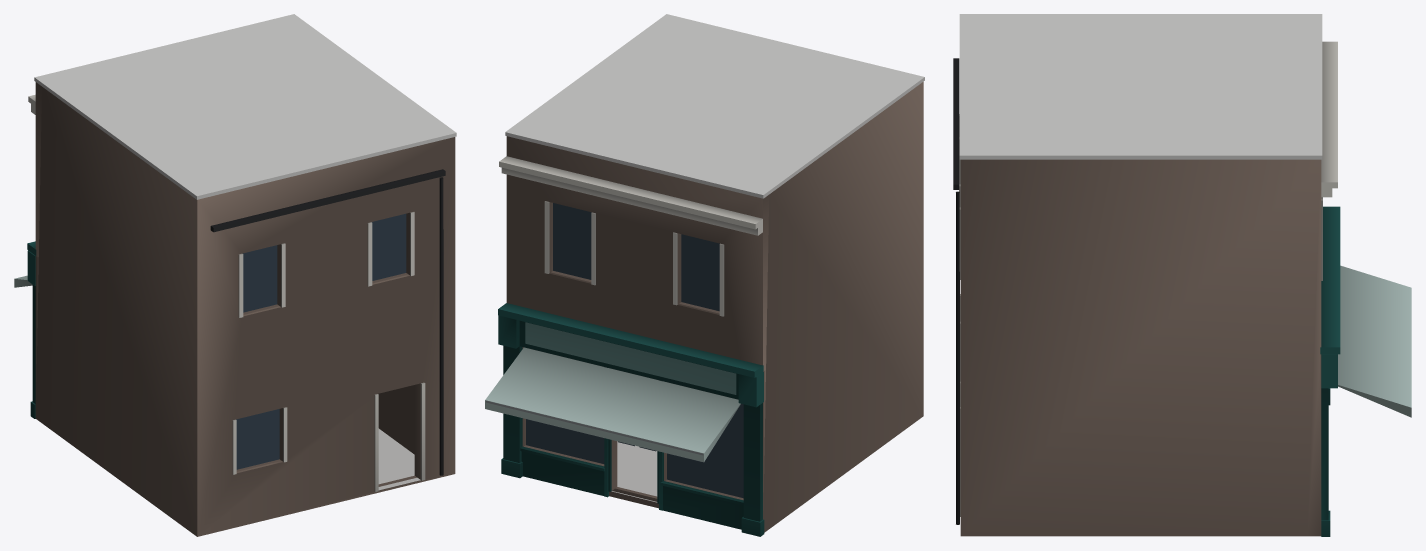
Rendered from cafe-front_lod1.glb.
3 views of the same model, side by side, from view 1: azimuth 30°, elevation 25°; view 2: azimuth 150°, elevation 25°; view 3: azimuth 270°, elevation 25° (orthographic). The views are drawn at different scales.
Visible parts, largest first — view 1: cafe-front_lod1; view 2: cafe-front_lod1; view 3: cafe-front_lod1.
Part boxes in pixels (x1,y1,x2,y2): cafe-front_lod1: [14, 14, 456, 536]; cafe-front_lod1: [485, 14, 924, 536]; cafe-front_lod1: [953, 14, 1411, 536].
Bounding box in the file's own units: 6.06 × 7.58 × 8.27.
